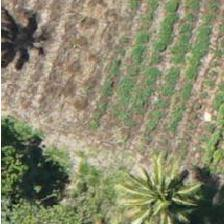Kelapa_Sawit: (125, 146, 215, 224)
